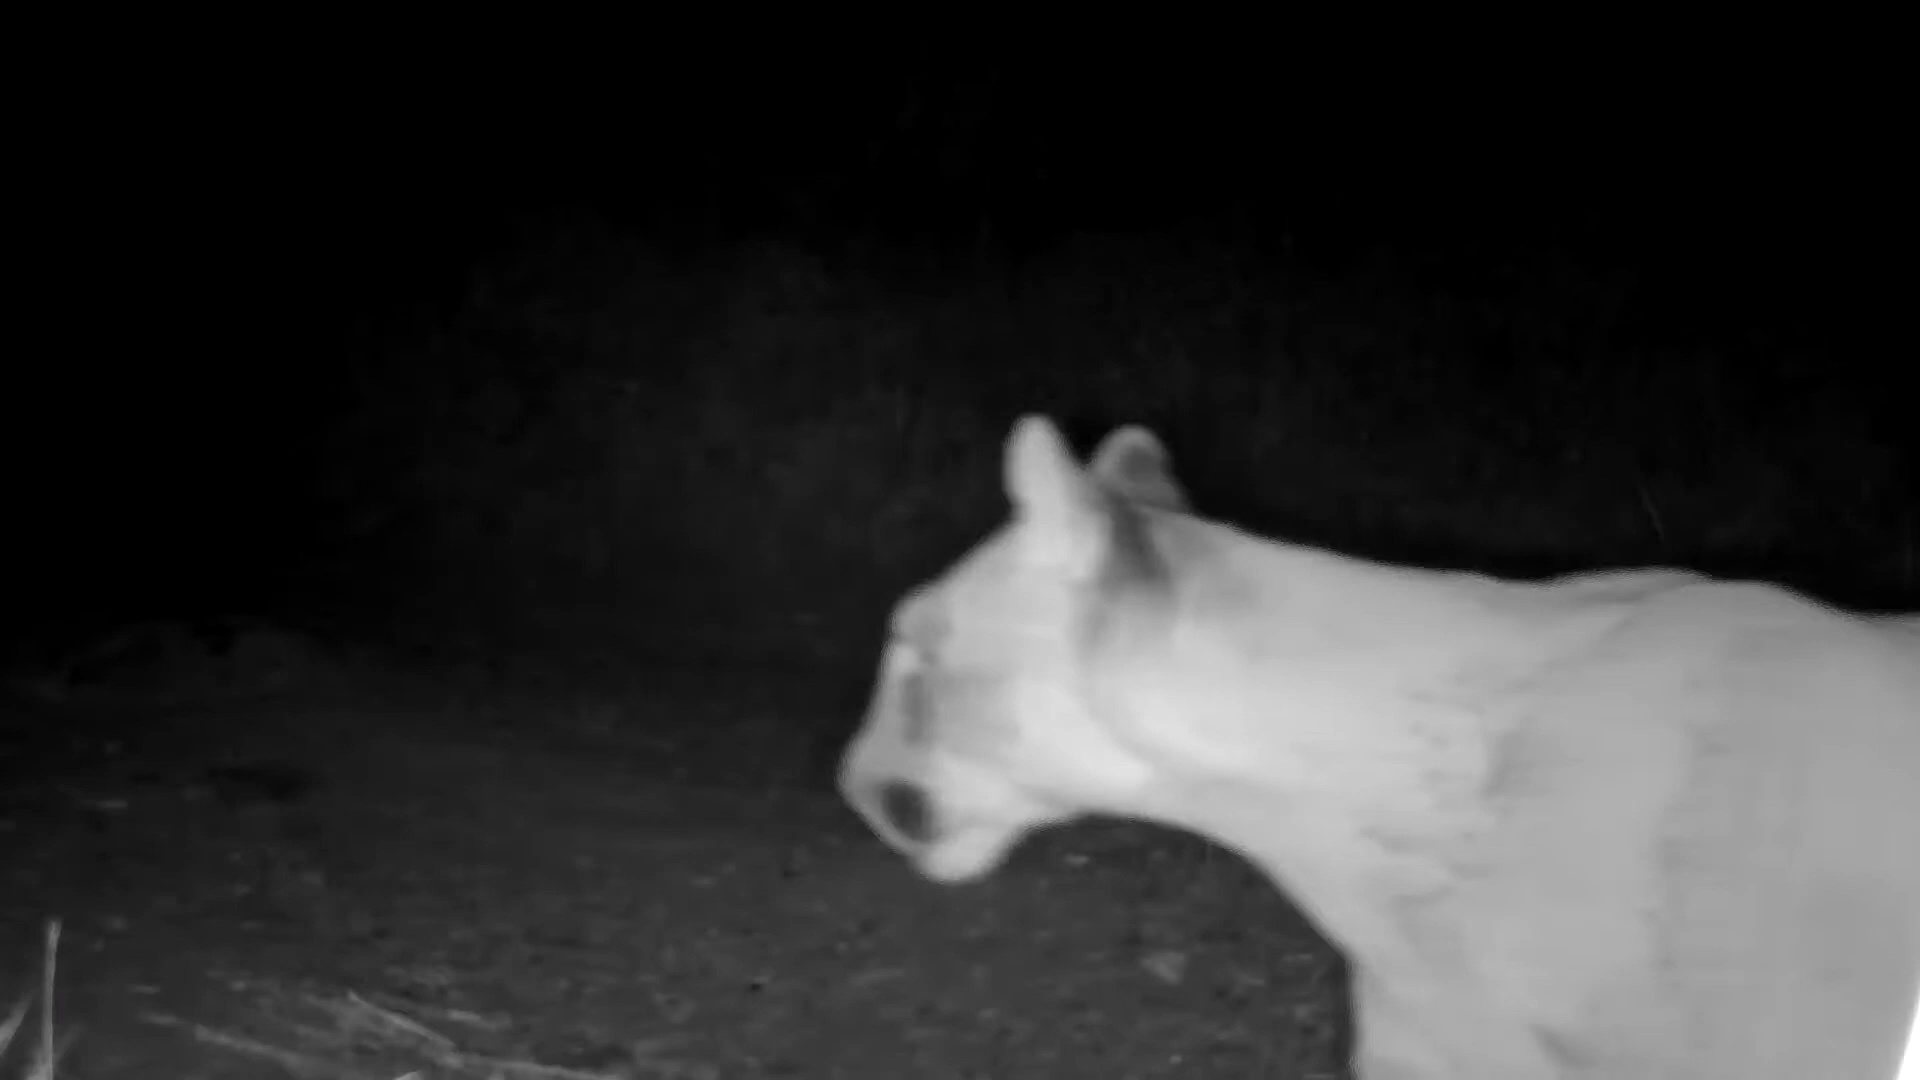Lion: (829, 407, 1920, 1080)
